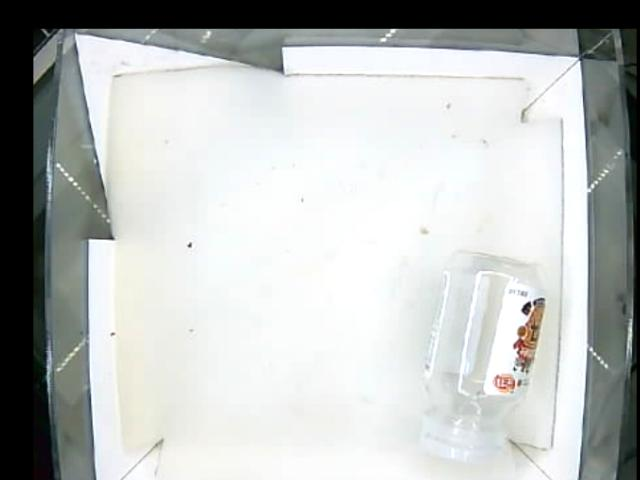Bottle: (416, 245, 548, 464)
